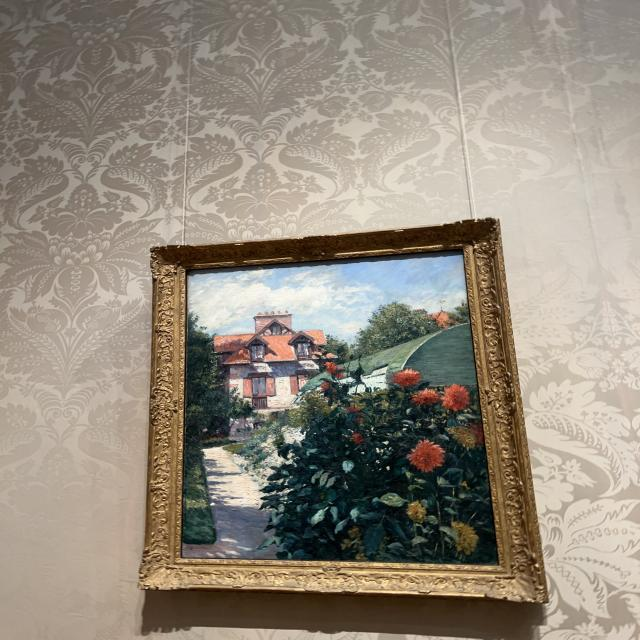summer: (183, 255, 498, 562)
